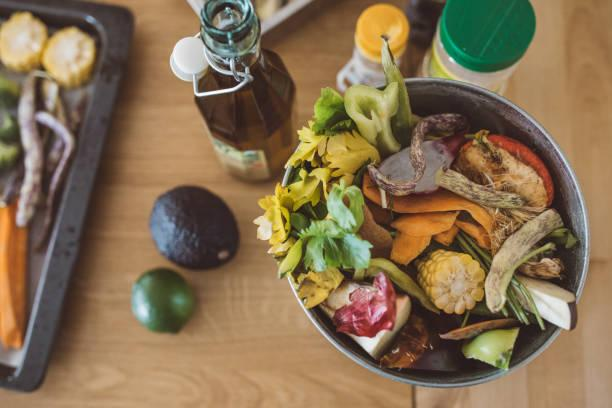glass: (172, 0, 306, 192)
organic: (282, 79, 584, 376), (0, 3, 112, 360), (155, 182, 238, 266), (127, 266, 198, 339)
